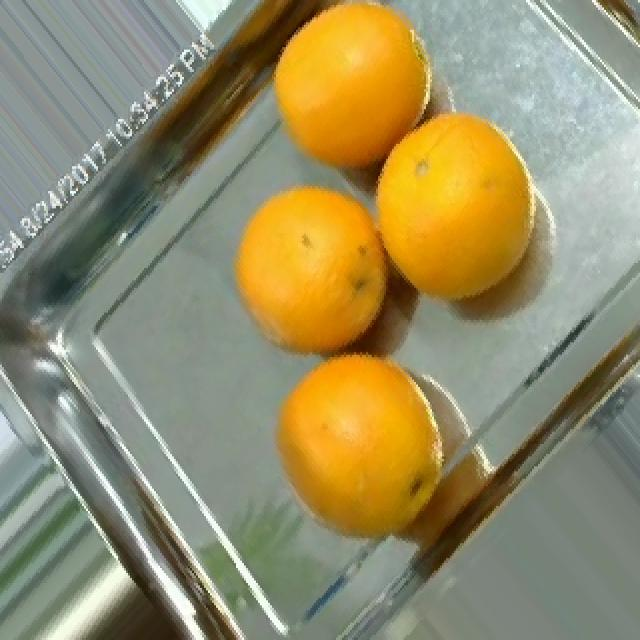Good_Orange: (374, 114, 534, 303), (284, 355, 444, 533), (274, 0, 430, 171), (234, 186, 388, 355)
